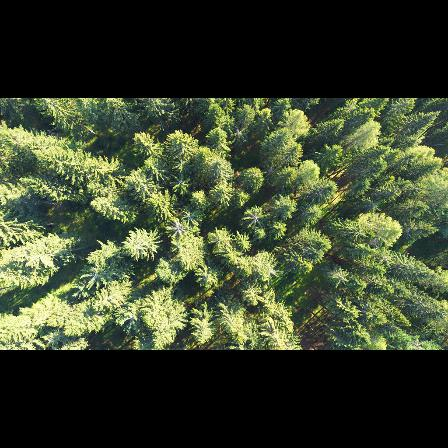Sick: (81, 261, 113, 287), (165, 216, 190, 241), (243, 205, 269, 228), (182, 205, 203, 227), (230, 121, 250, 142)
